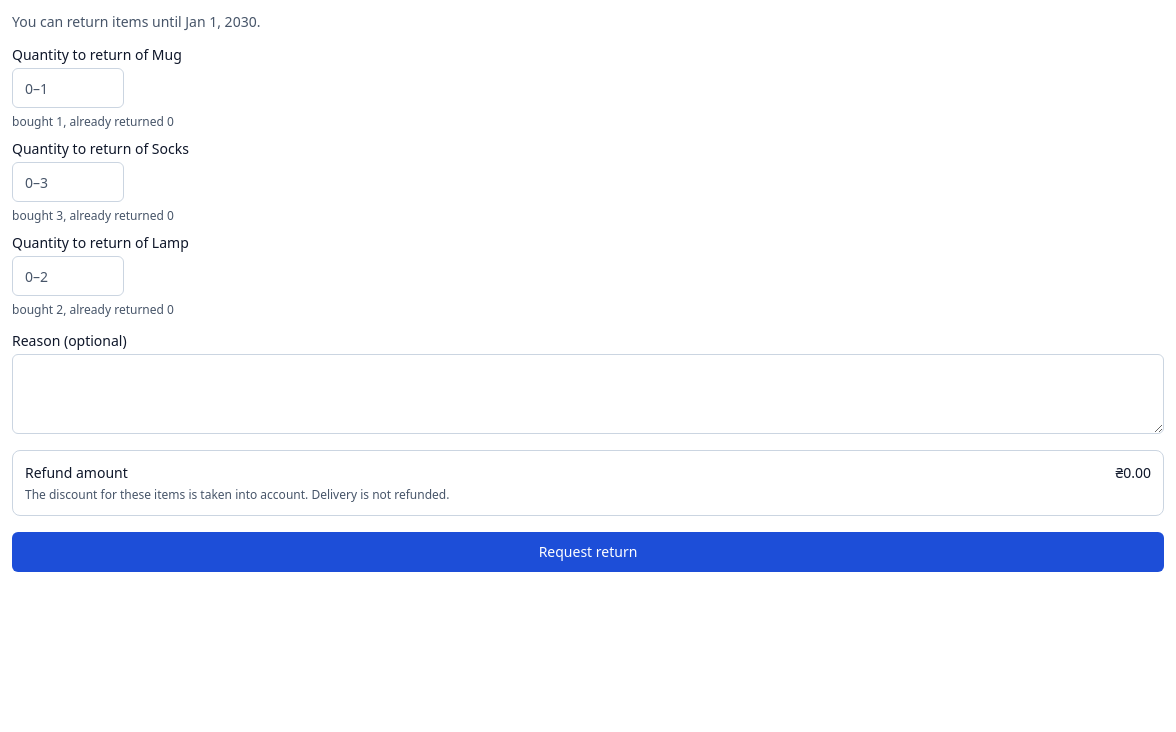
Scenario: <ReturnForm /> › lets the customer pick items and quantities, shows the refund, and submits
The width and height of the screenshot is (1176, 732).
Type "3" into the field labelled "Quantity to return of Socks" at (68, 182), box [12,162,124,202]
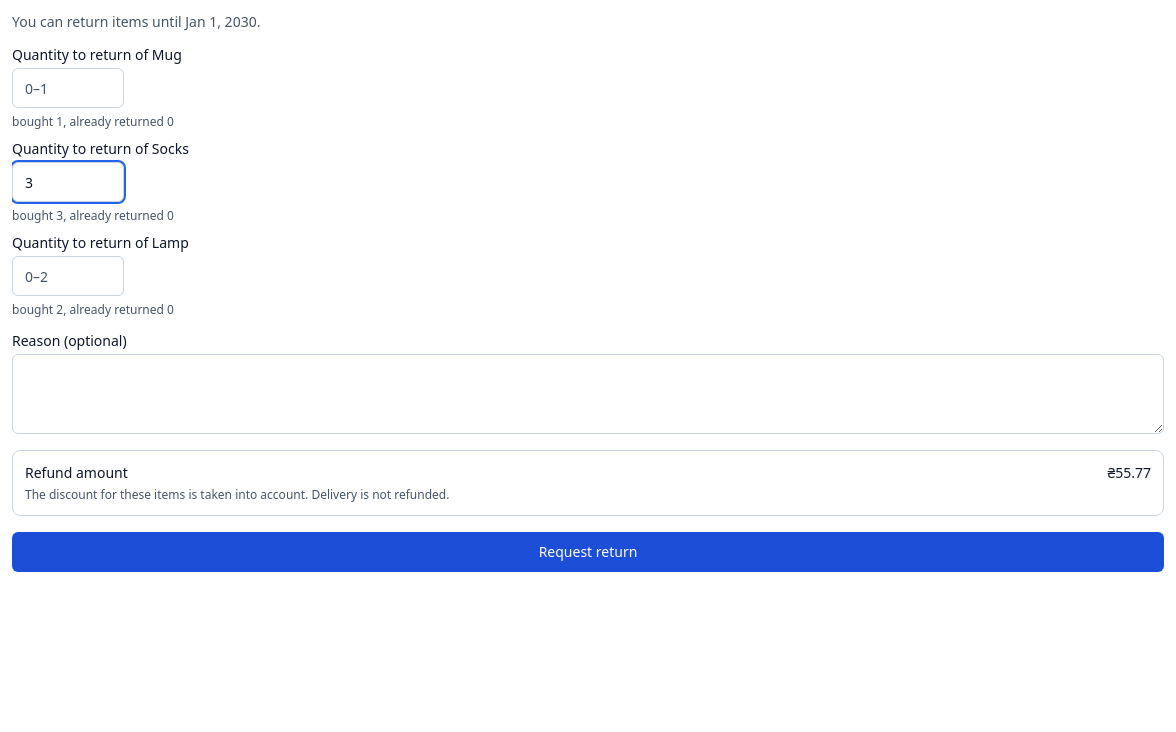
Expected: the text with test id "return-estimate" reads "₴55.77", [1108,463,1151,482]
Type "1" into the field labelled "Quantity to return of Lamp" at (68, 276), box [12,256,124,296]
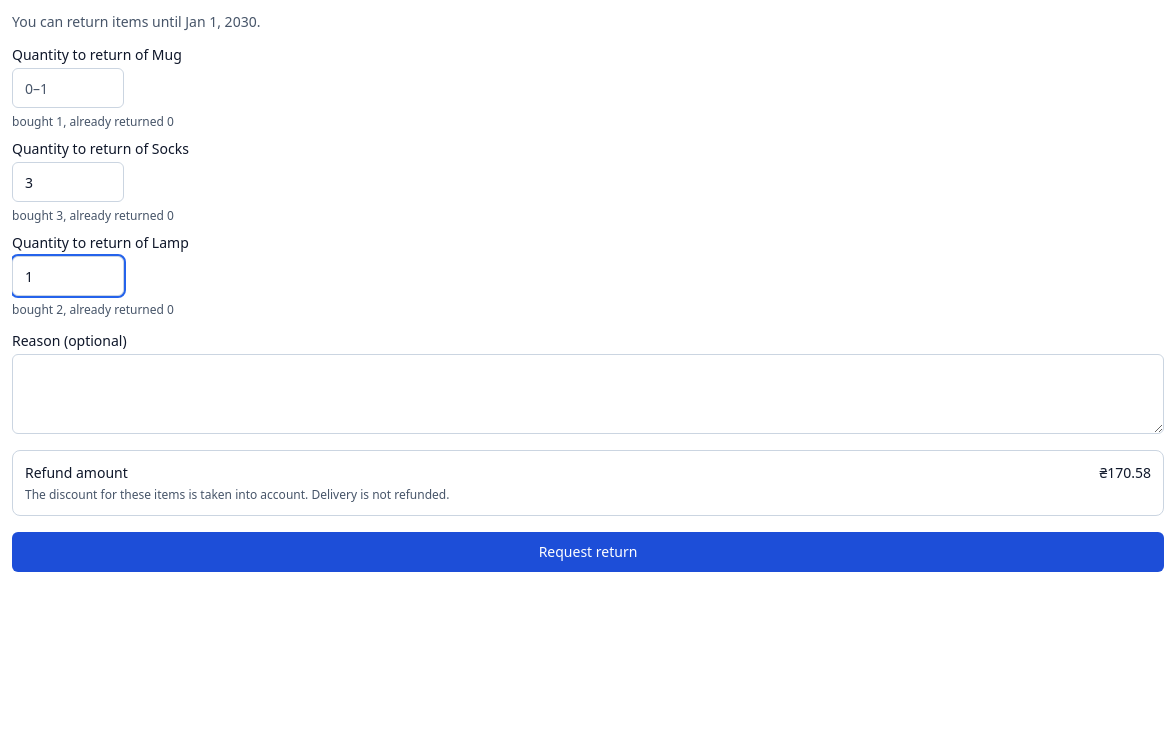
Expected: the text with test id "return-estimate" reads "₴170.58", [1100,463,1151,482]
Type "Wrong size" into the text box labelled "Reason (optional)" at (588, 394), box [12,354,1164,434]
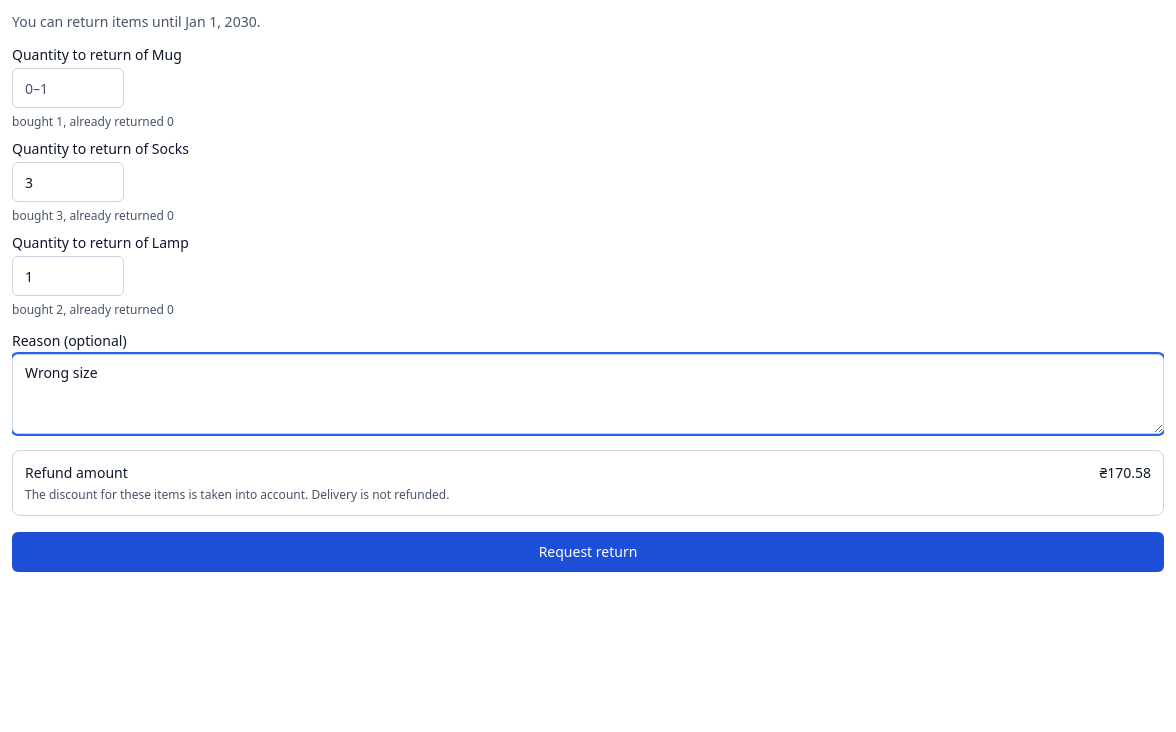
Click the button "Request return" at (588, 552), box [12,532,1164,572]
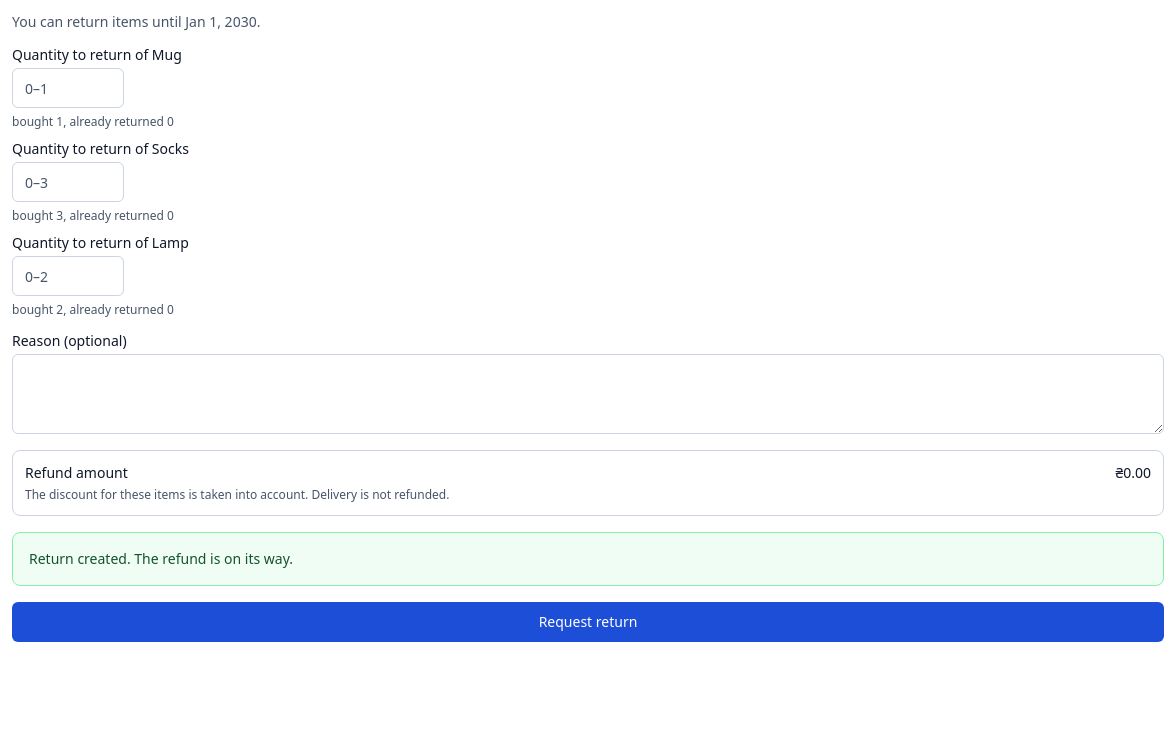
Expected: the text "Return created. The refund is on its way." is shown, [12,532,1164,586]
